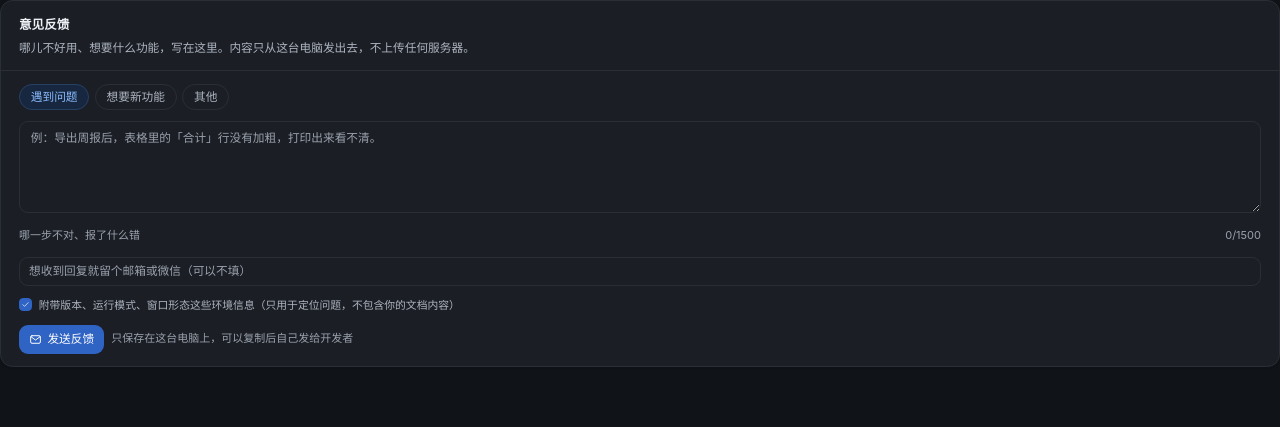
FeedbackCard › 配了开发者邮箱时给出收件人，并把标题+正文复制到剪贴板
Later steps or results of the test are not shown.
Type "导出的标题空了" into the text box named "反馈内容" at (640, 167), box [19,121,1261,213]
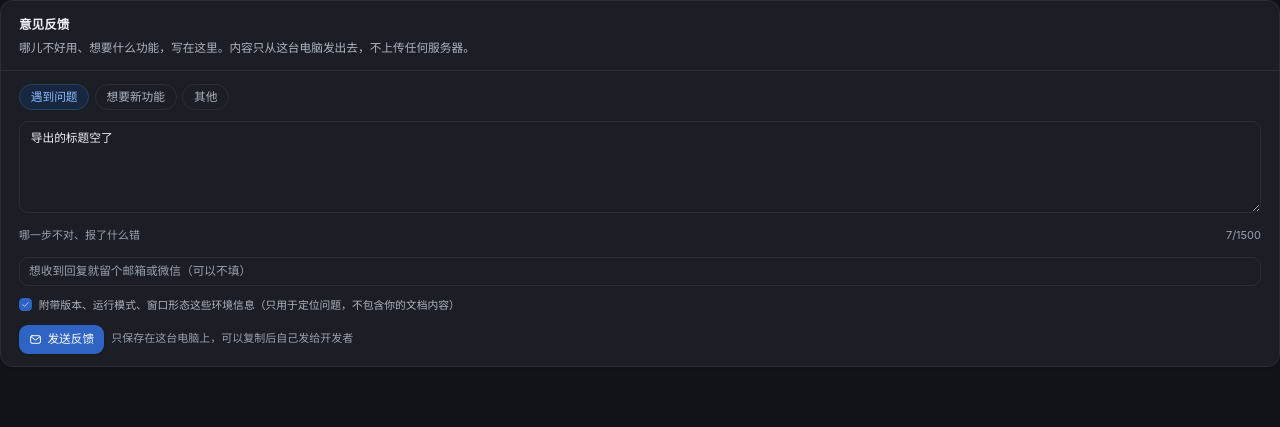
Click the button "发送反馈" at (62, 339), box [19,325,104,354]
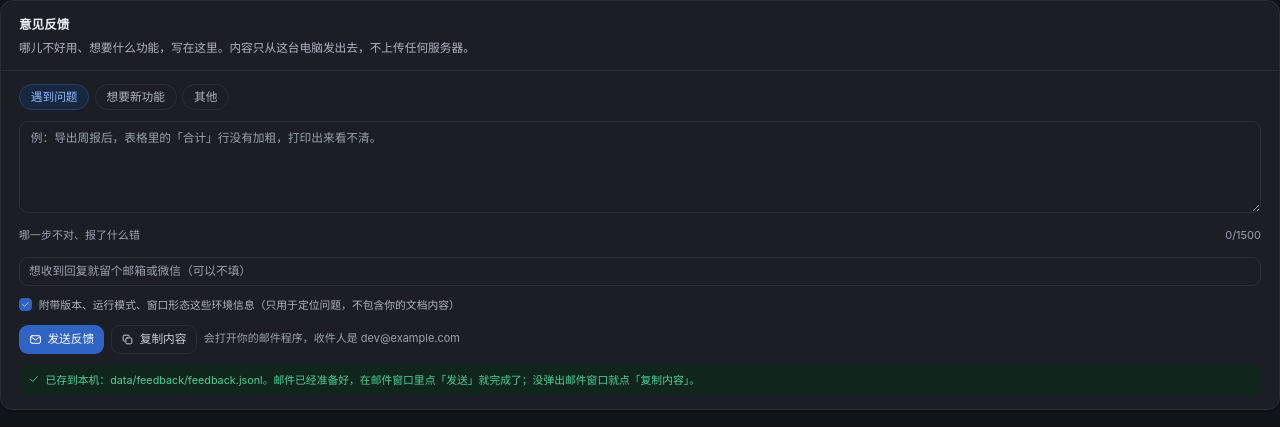
Now the text "会打开你的邮件程序，收件人是 dev@example.com" is shown, box [204,328,460,350]
